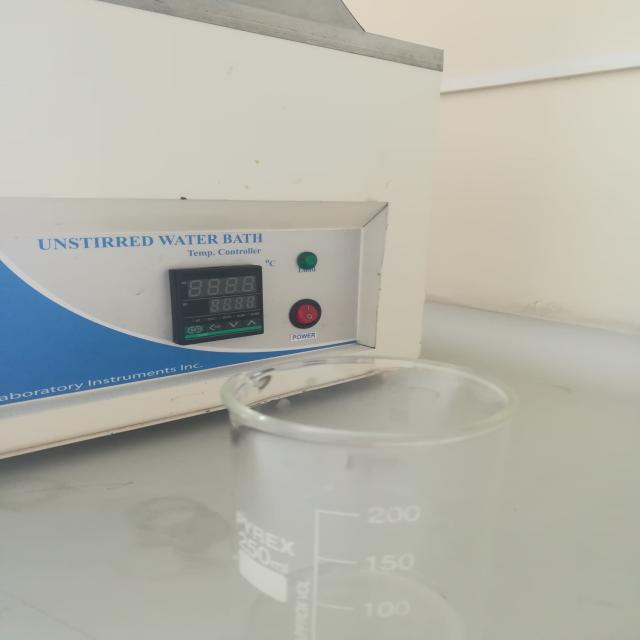Beaker: (198, 318, 562, 640)
